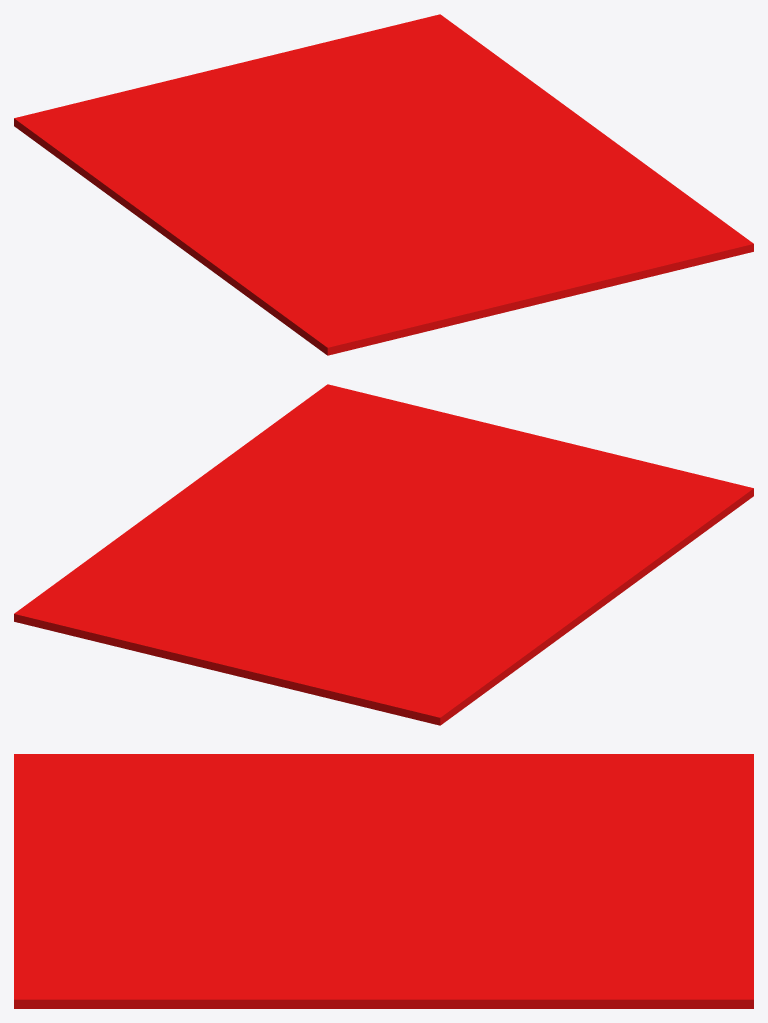
The model's file is Roof_Low.fbx.
3 renders of one model, top to bottom at view 1: azimuth 30°, elevation 25°; view 2: azimuth 150°, elevation 25°; view 3: azimuth 270°, elevation 25°, orthographic. The views are drawn at different scales.
Parts seen in each view (by area): view 1: Building01_Tejado_LOW; view 2: Building01_Tejado_LOW; view 3: Building01_Tejado_LOW.
Boxes of the visible parts, x1,y1,x2,y2 form: Building01_Tejado_LOW: (14, 14, 753, 355); Building01_Tejado_LOW: (14, 384, 753, 725); Building01_Tejado_LOW: (14, 754, 753, 1008).
Size of the model in its own units: 1130 by 20 by 1440.
